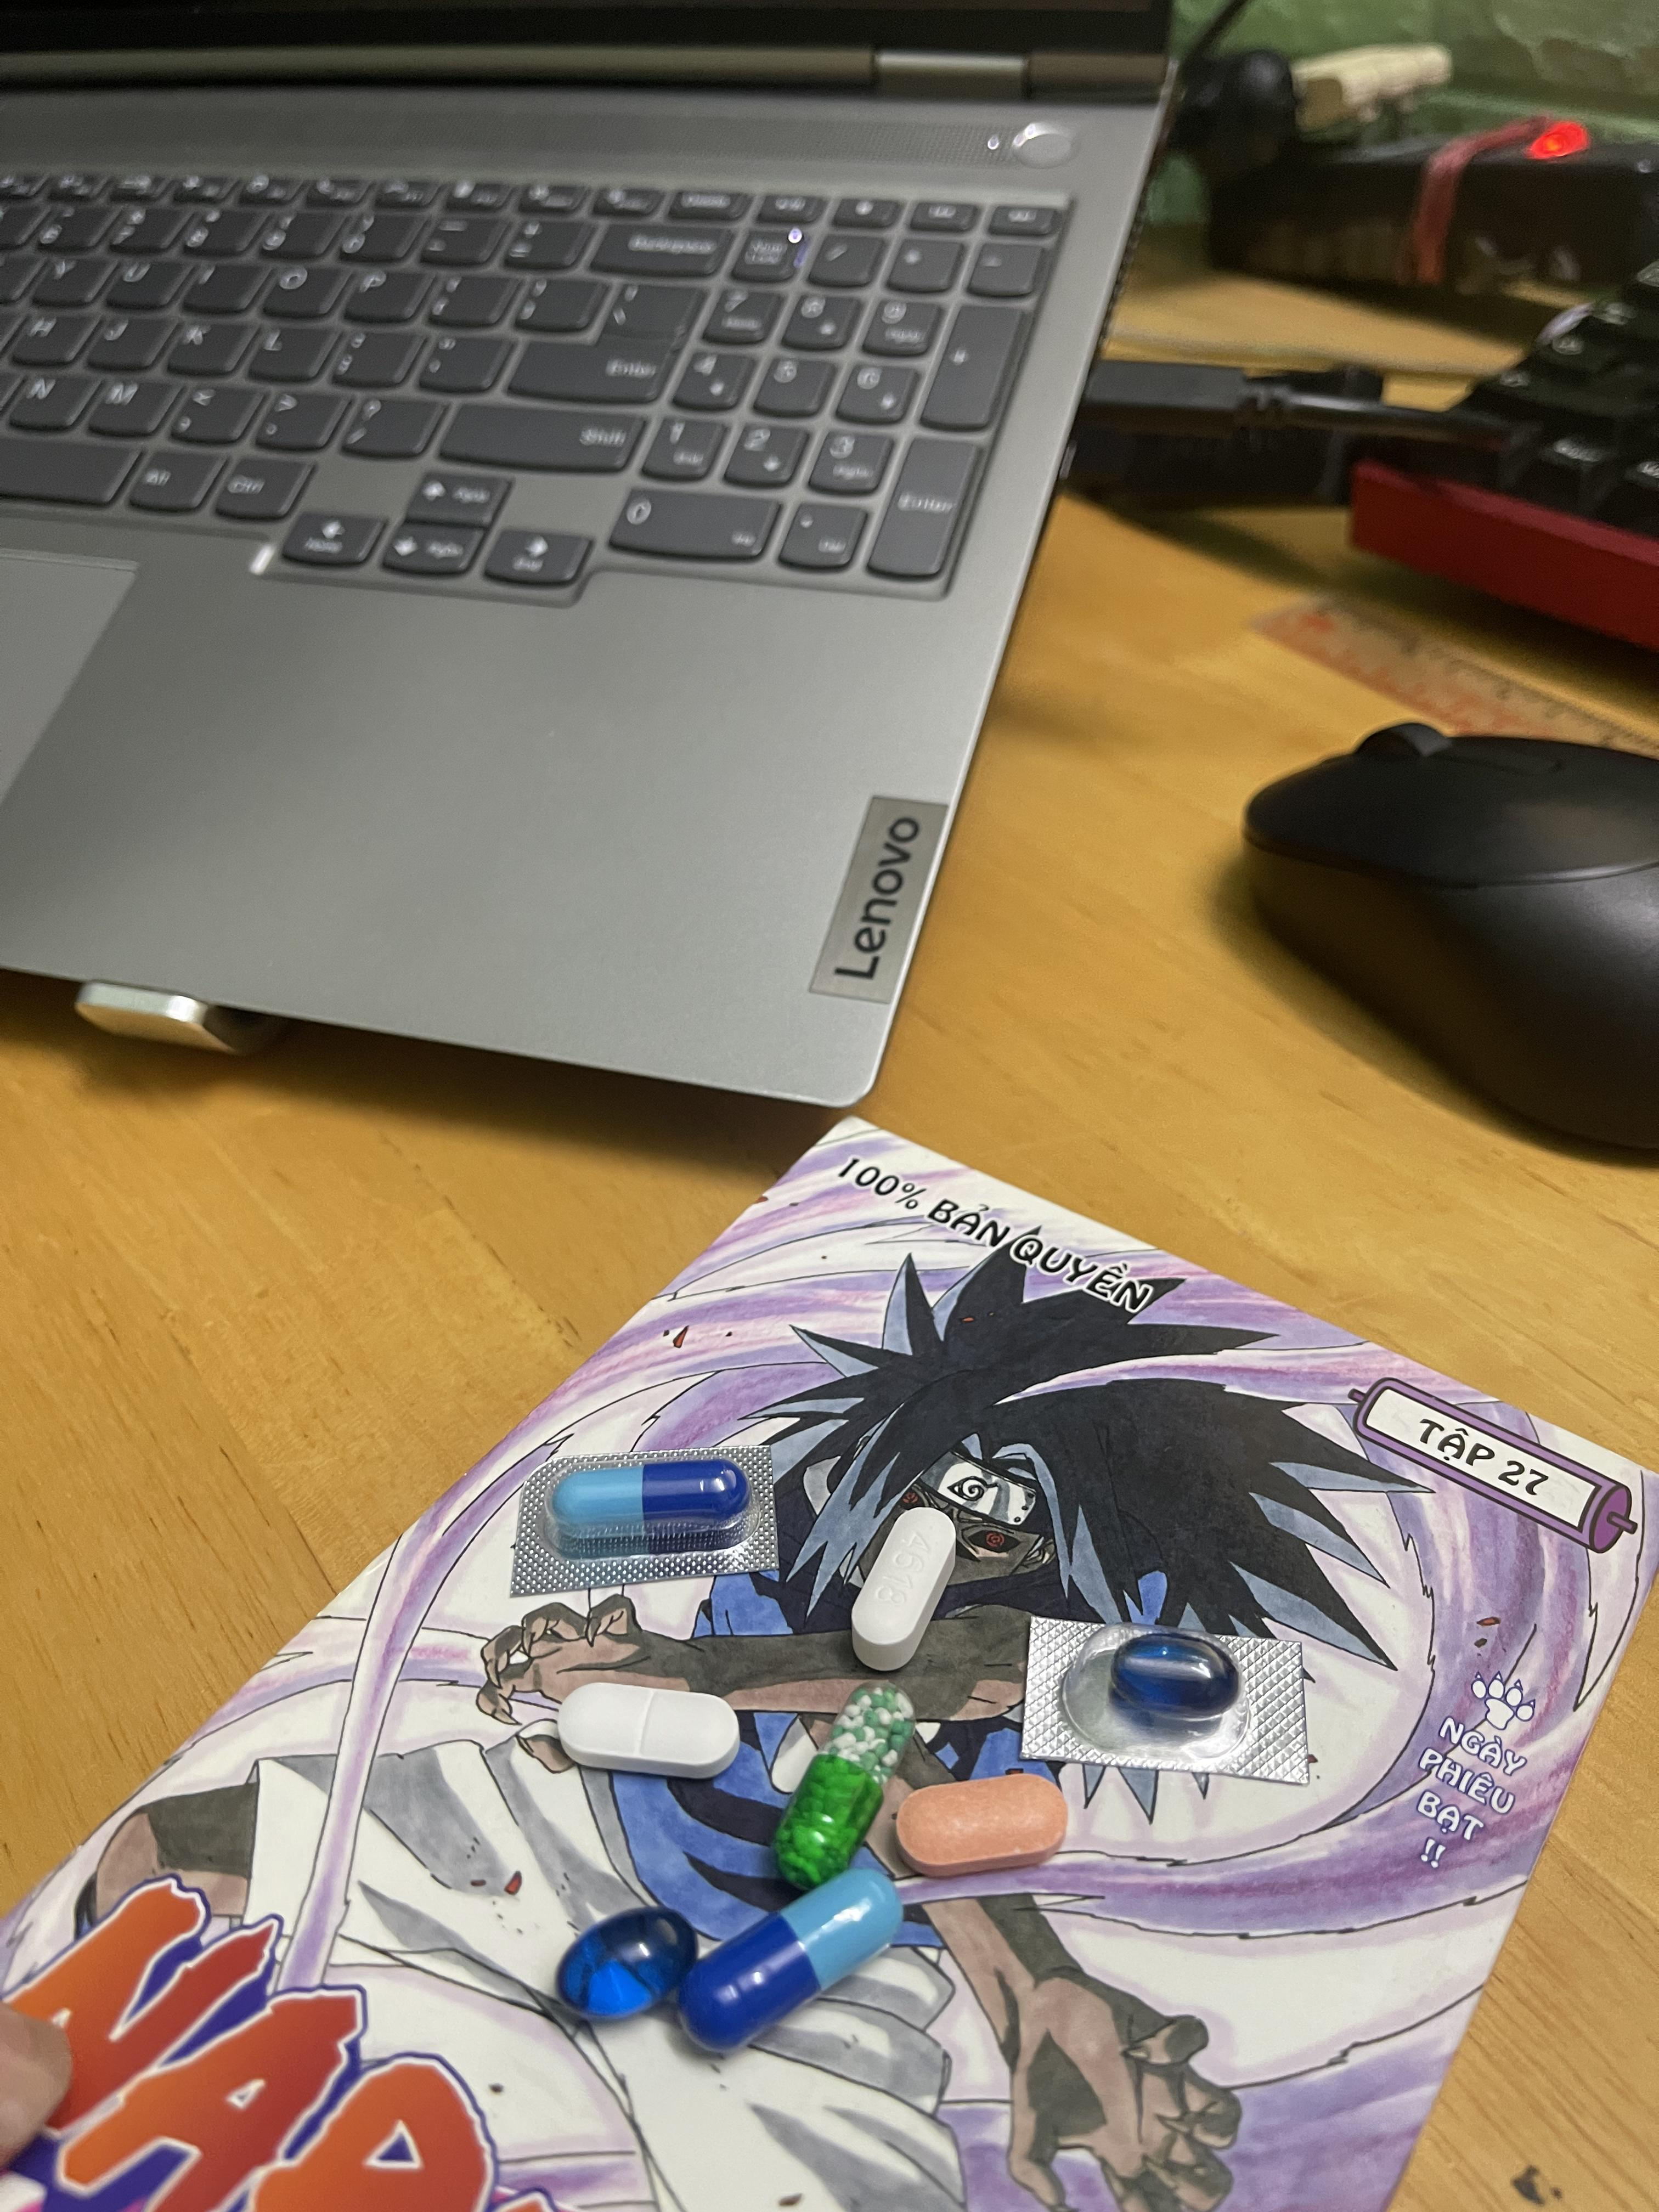Lincomyxin_500mg: (554, 1907, 699, 2020), (1112, 1639, 1234, 1717)
Loratadine_10mg: (894, 1771, 1068, 1872)
Paracetamol_350mg: (554, 1681, 741, 1780)
Paracetamol_500mg: (849, 1505, 960, 1670)
Paracetamol_650mg: (775, 1677, 917, 1897)
pill: (709, 1851, 897, 2020), (547, 1446, 751, 1550)
